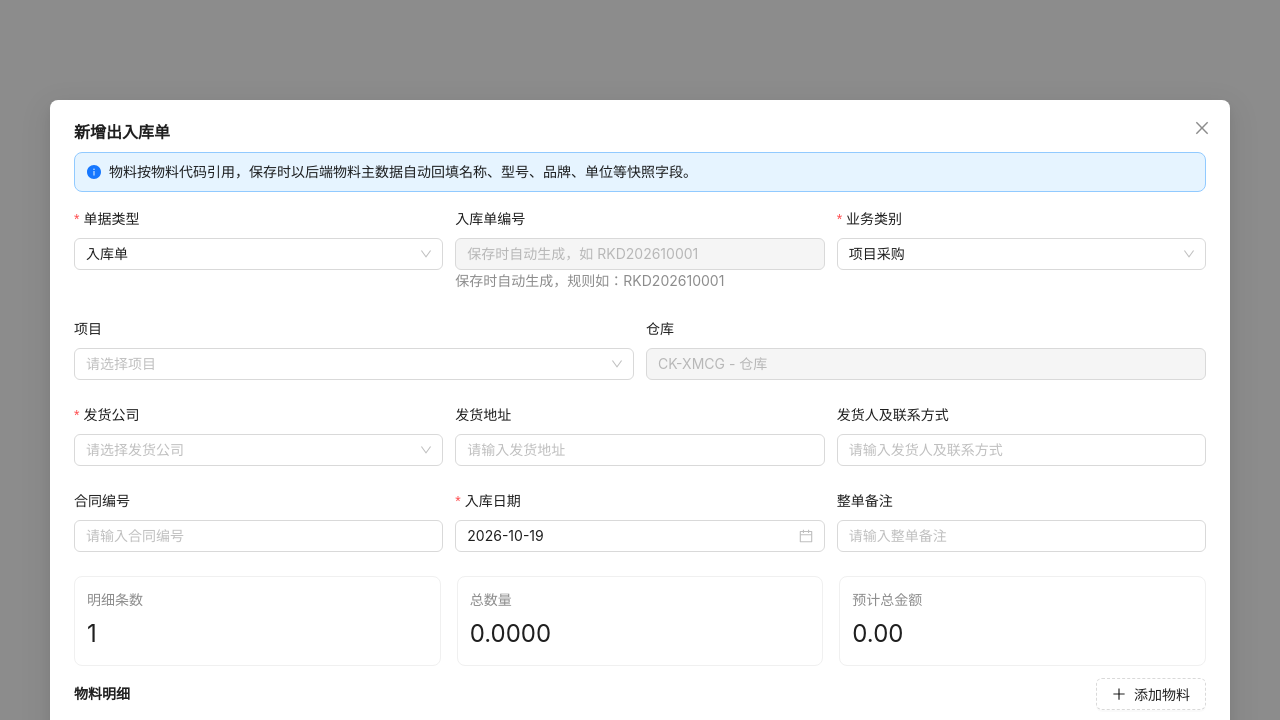
changing an outbound document to inbound still clears an incompatible receiver
Press the mouse on the dropdown labelled "单据类型" at (114, 219), box [74, 208, 154, 230]
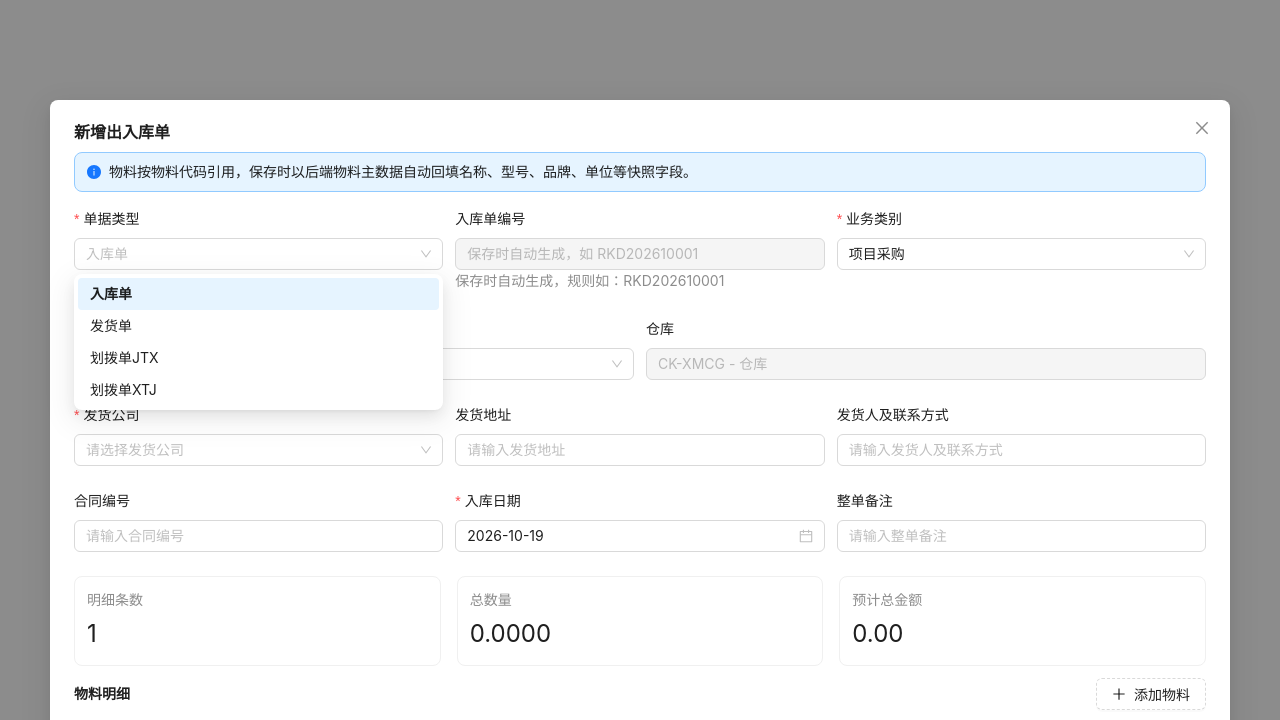
Click the text "发货单" at (111, 326), box [90, 317, 132, 334]
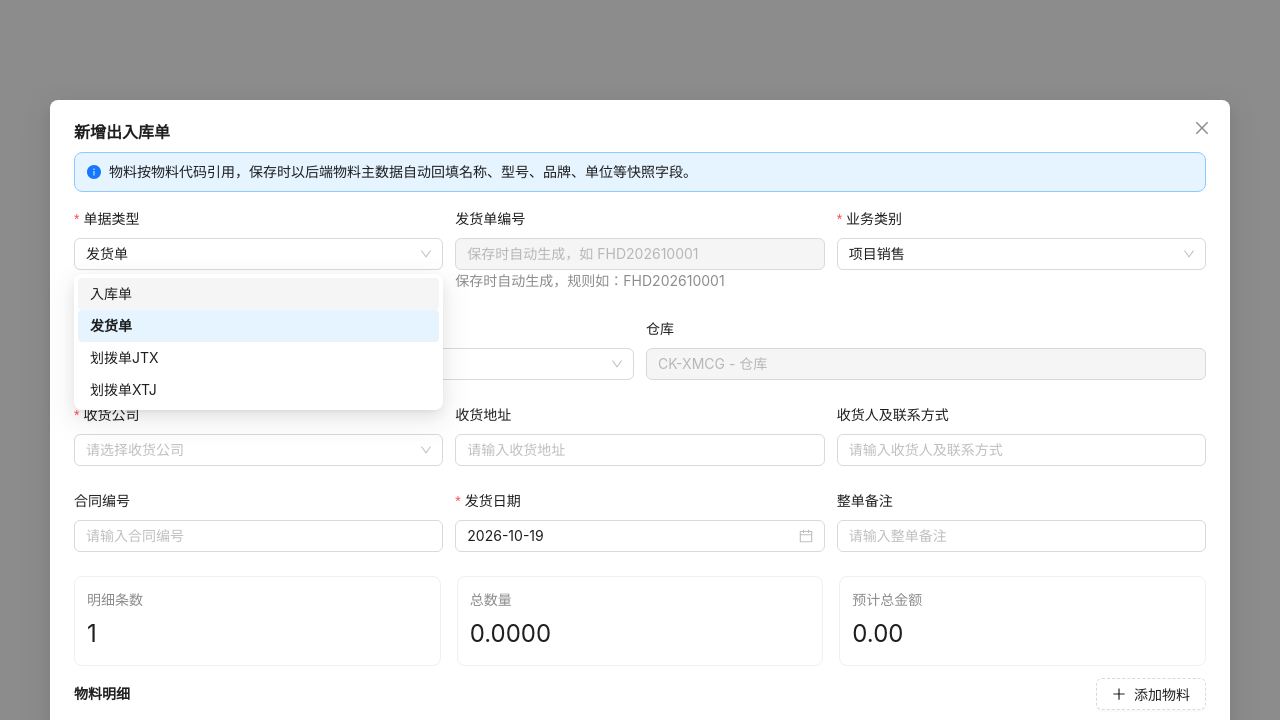
Press the mouse on the dropdown labelled "收货公司" at (250, 450), box [86, 435, 413, 465]
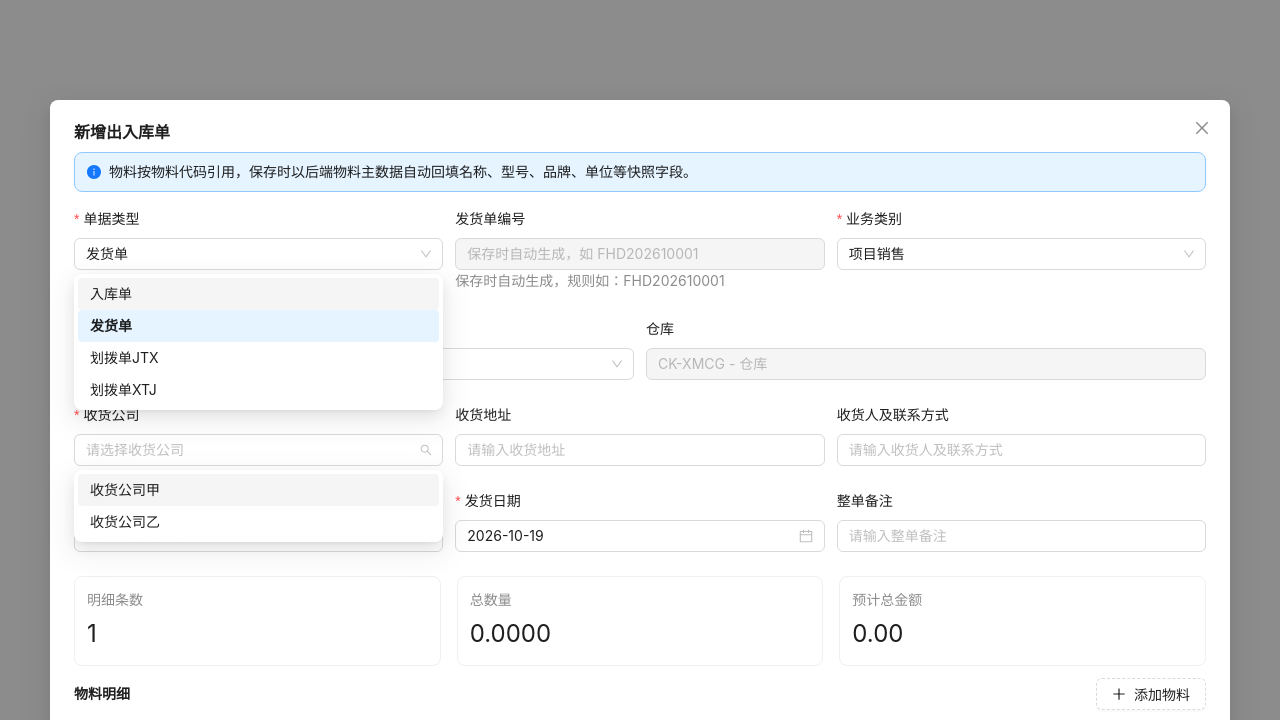
Click the text "收货公司甲" at (125, 490), box [90, 481, 160, 498]
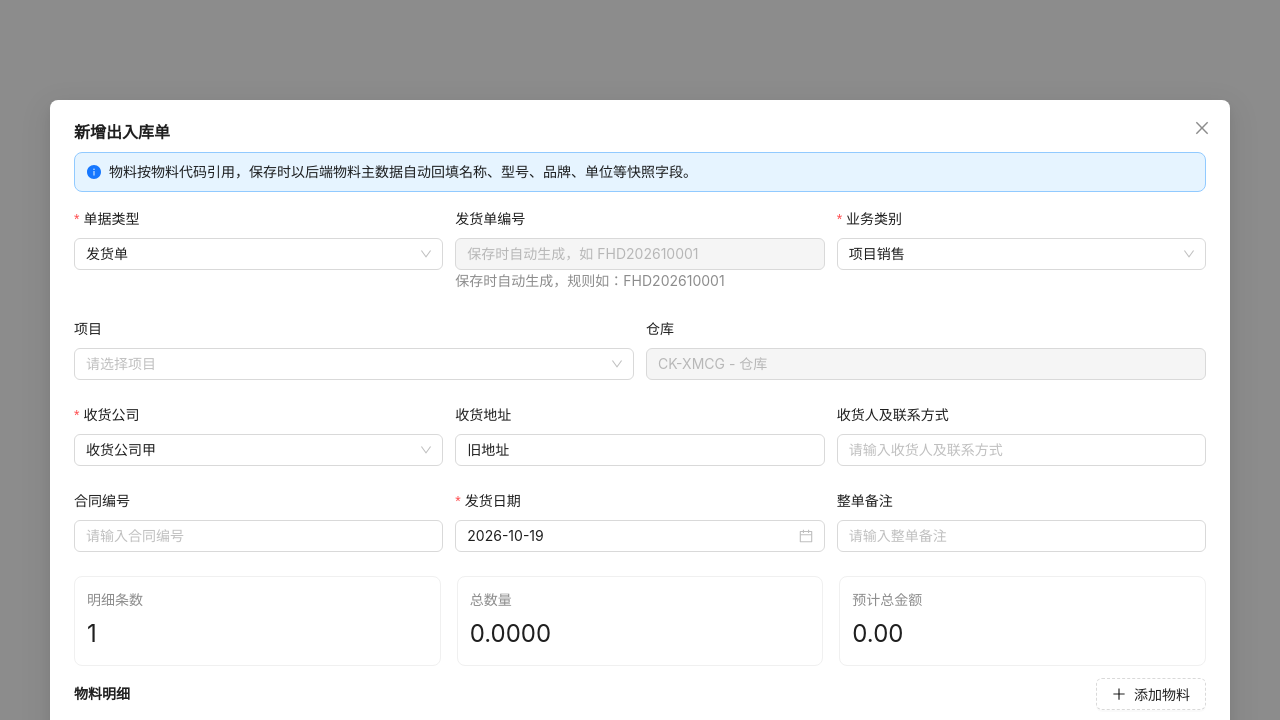
Now the element labelled "收货公司" reads "收货公司甲", box [86, 441, 156, 458]
Press the mouse on the dropdown labelled "单据类型" at (114, 219), box [74, 208, 154, 230]
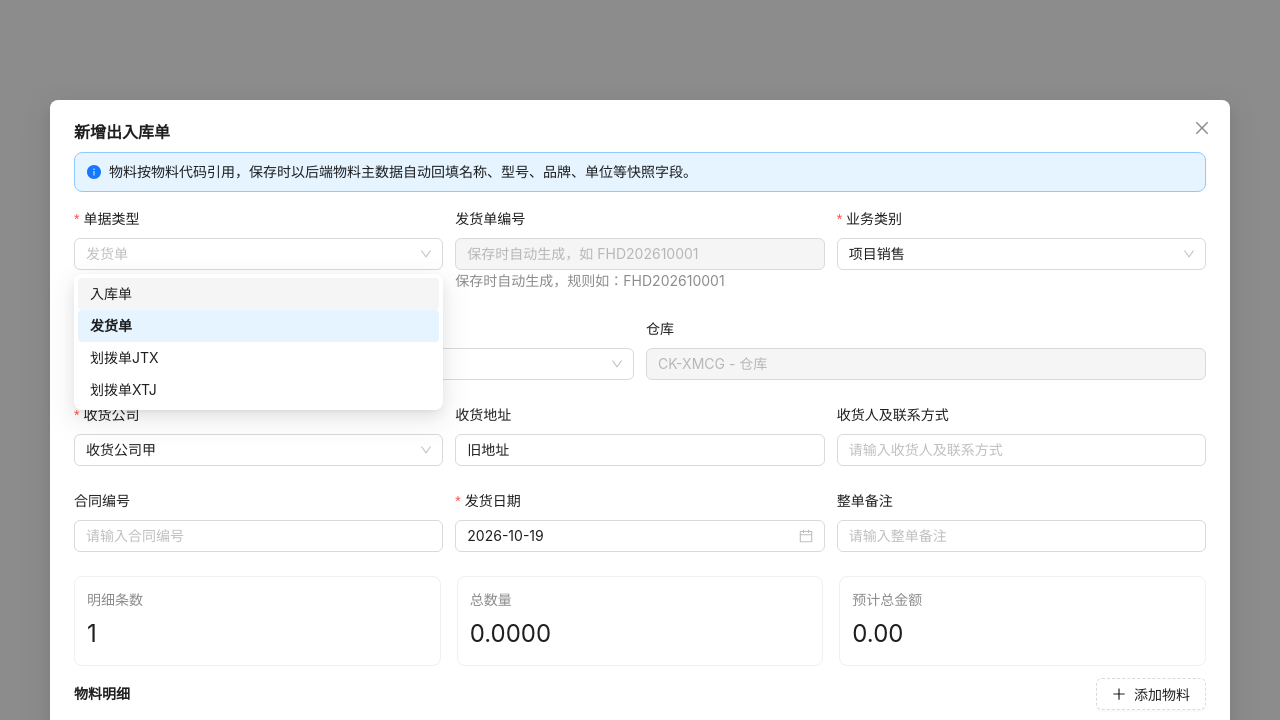
Click the text "入库单" at (111, 294), box [90, 285, 132, 302]
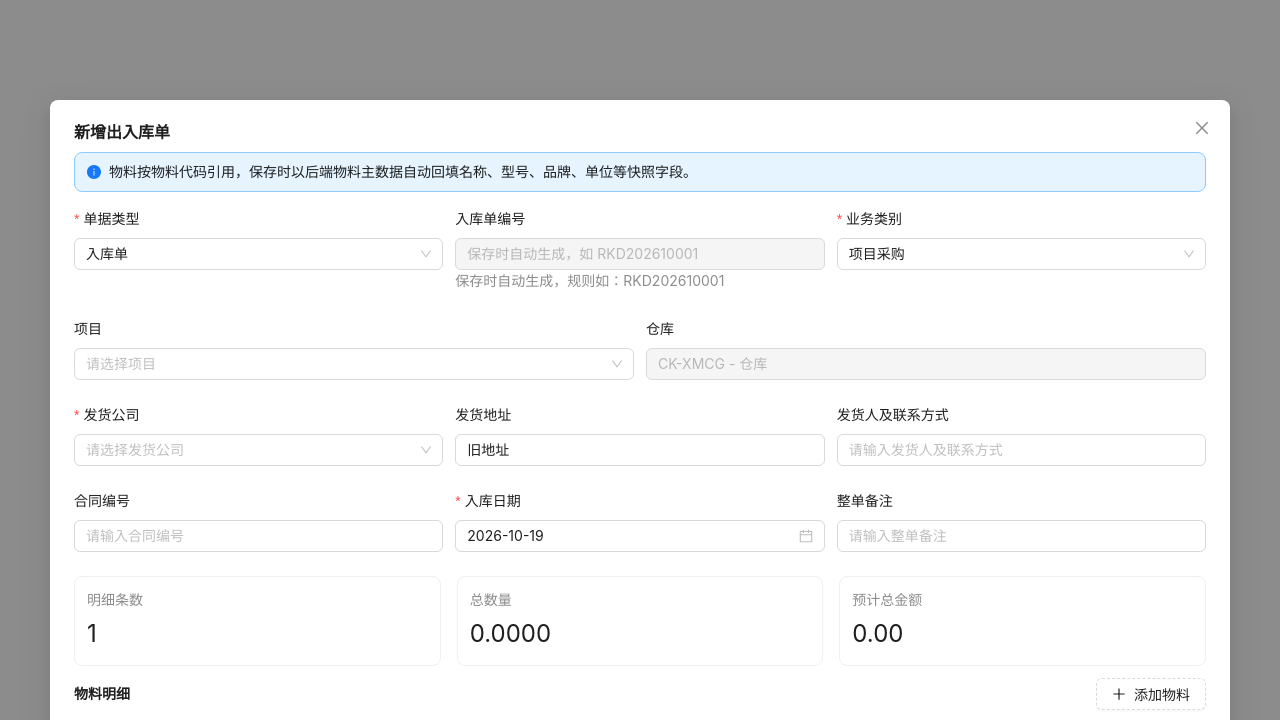
Now the text labelled "收货公司" no longer shows "收货公司甲"
